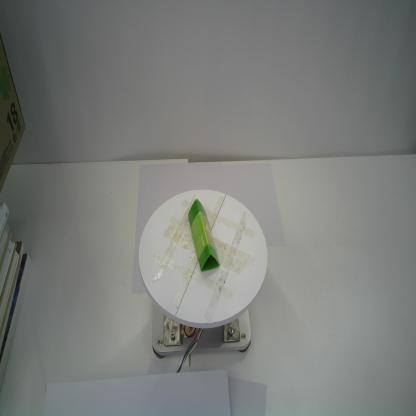Stationery: (187, 198, 222, 276)
